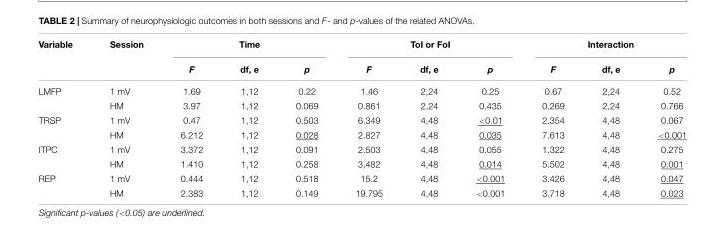table: (37, 37, 686, 197)
table column: (90, 37, 161, 197), (456, 37, 522, 197), (336, 37, 400, 197), (276, 37, 336, 197), (522, 37, 582, 197), (161, 37, 220, 197), (220, 37, 276, 197), (400, 37, 456, 197), (582, 37, 638, 197), (37, 37, 90, 197), (638, 37, 686, 197)
table column header: (37, 37, 686, 79)
table row: (37, 55, 686, 79), (37, 37, 686, 55), (37, 79, 686, 97), (37, 97, 686, 112), (37, 126, 686, 141), (37, 155, 686, 170), (37, 170, 686, 185), (37, 112, 686, 126), (37, 141, 686, 155), (37, 185, 686, 197)
table spanning cell: (336, 37, 522, 55), (161, 37, 336, 55), (90, 37, 161, 79), (522, 37, 686, 55), (37, 37, 90, 79), (37, 79, 90, 112), (37, 112, 90, 141), (37, 141, 90, 170), (37, 170, 90, 197)
